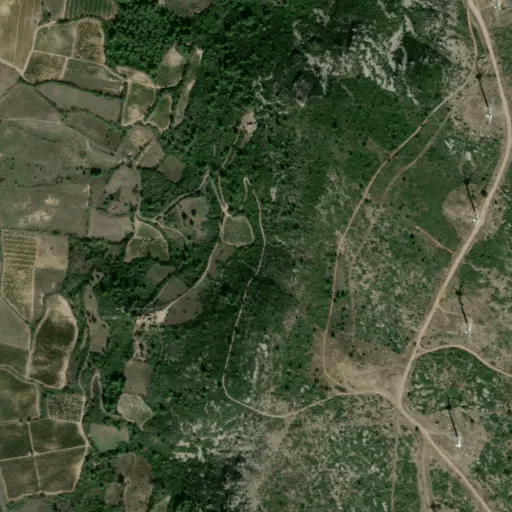wt: (473, 59, 495, 124), (460, 172, 483, 227), (443, 396, 465, 451), (453, 284, 475, 335)
